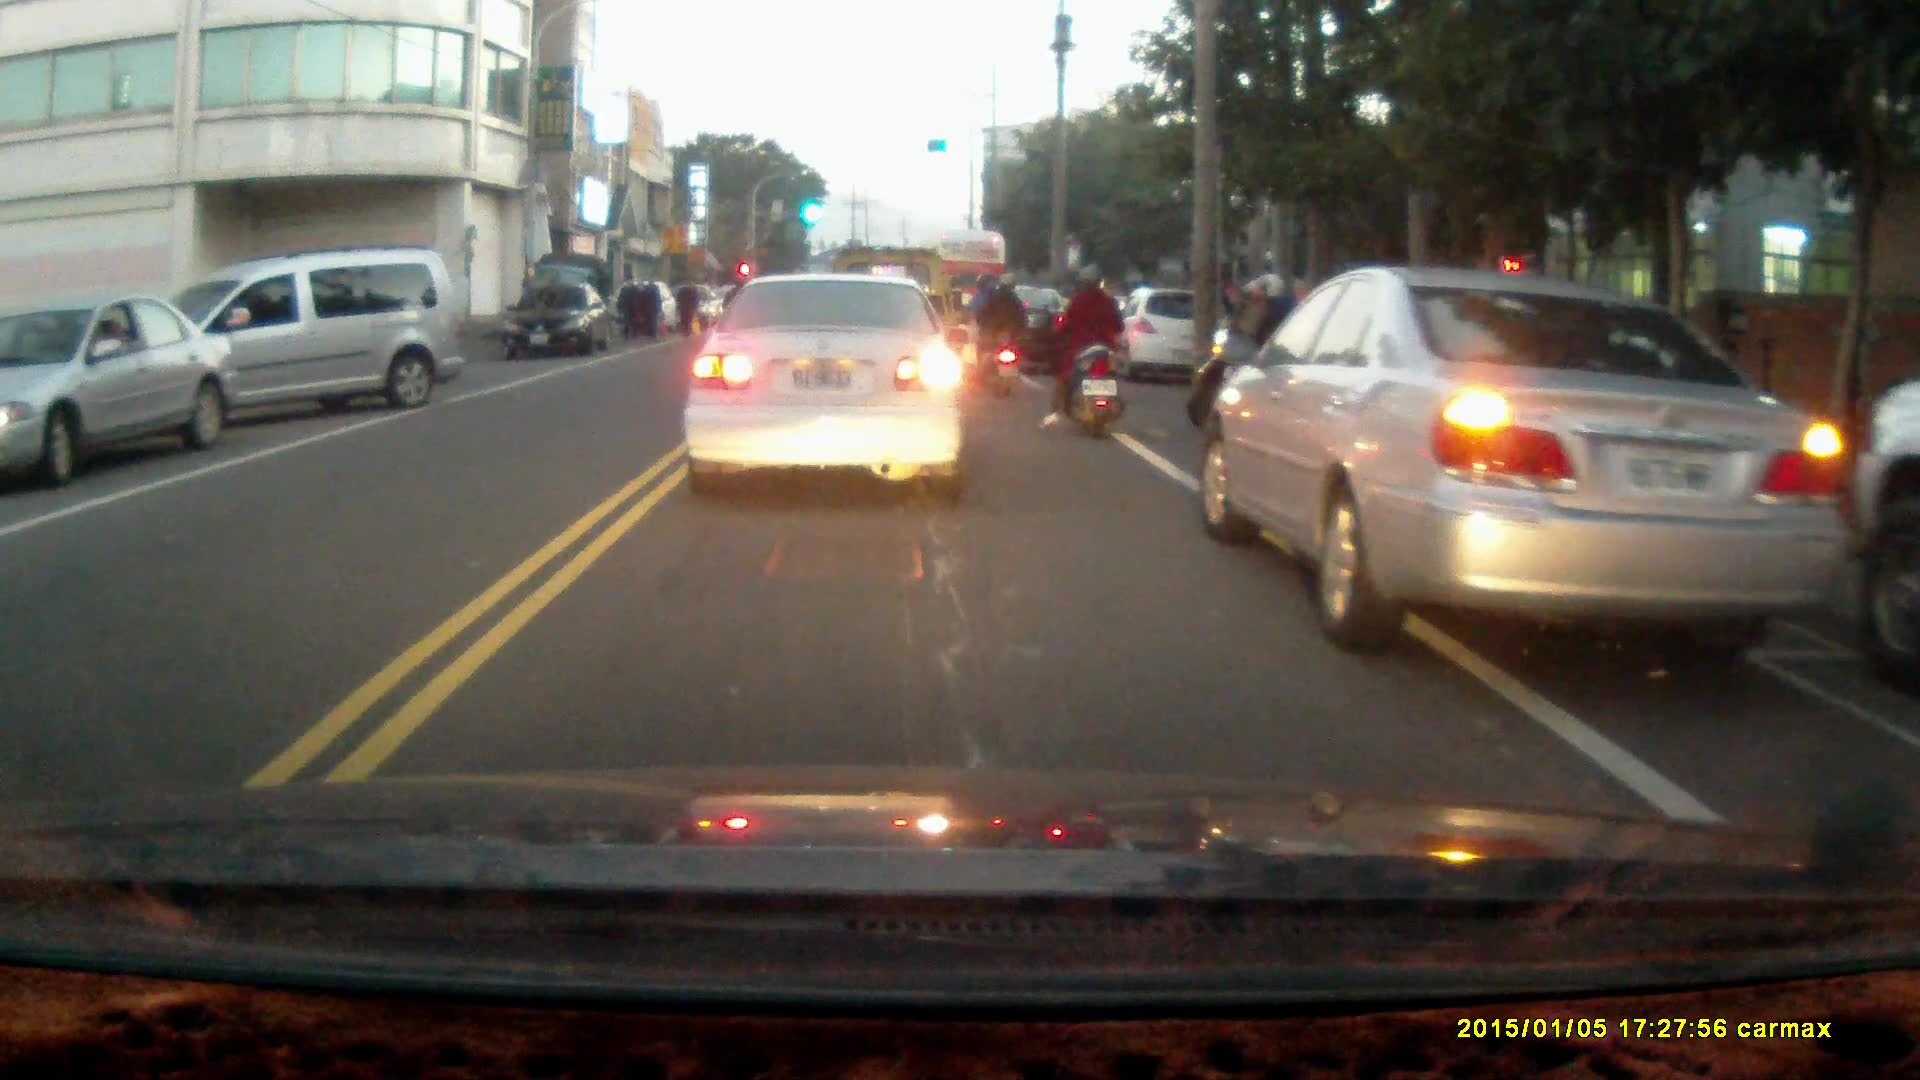pedestrian: (614, 271, 641, 343), (672, 272, 700, 337), (636, 269, 659, 346)
rider: (1188, 271, 1315, 443), (1033, 261, 1127, 439), (959, 268, 1027, 396)
vehicle: (1197, 260, 1854, 654), (683, 272, 972, 503), (121, 250, 465, 440), (1, 296, 242, 488), (967, 282, 1115, 383), (1115, 290, 1223, 389), (507, 280, 614, 360)
